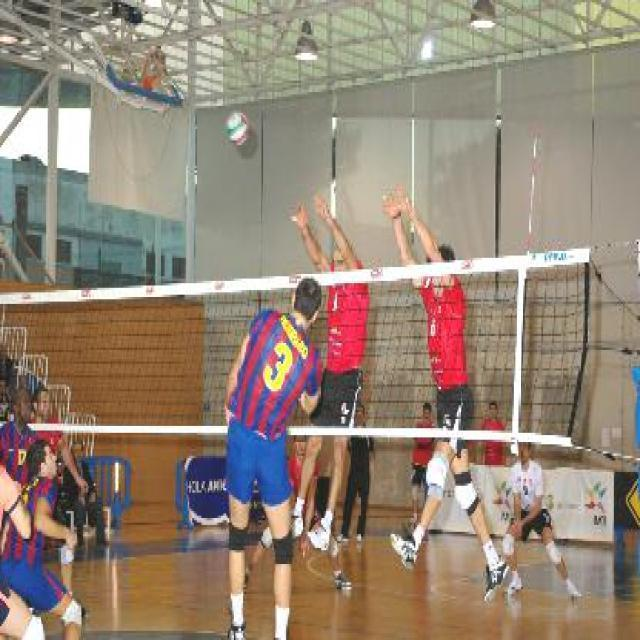volleyball: (224, 112, 250, 146)
